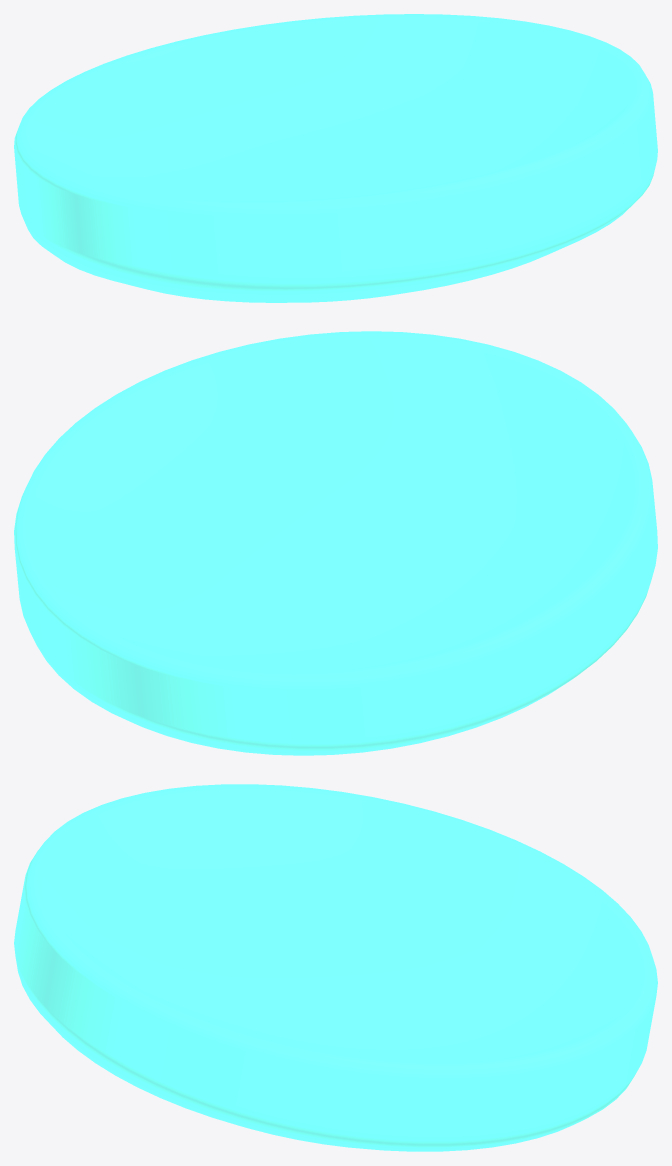
File: hnose.gltf
The picture shows the model from 3 angles, top to bottom: view 1: azimuth 30°, elevation 25°; view 2: azimuth 150°, elevation 25°; view 3: azimuth 270°, elevation 25°; orthographic projection.
Parts seen in each view (by area): view 1: disk; view 2: disk; view 3: disk.
Part boxes in pixels (box(x1,y1,x2,y2)): disk: box(14, 14, 657, 302); disk: box(14, 331, 657, 755); disk: box(14, 784, 657, 1151).
Size of the model in its own units: 0.0631 by 0.0218 by 0.0632.
